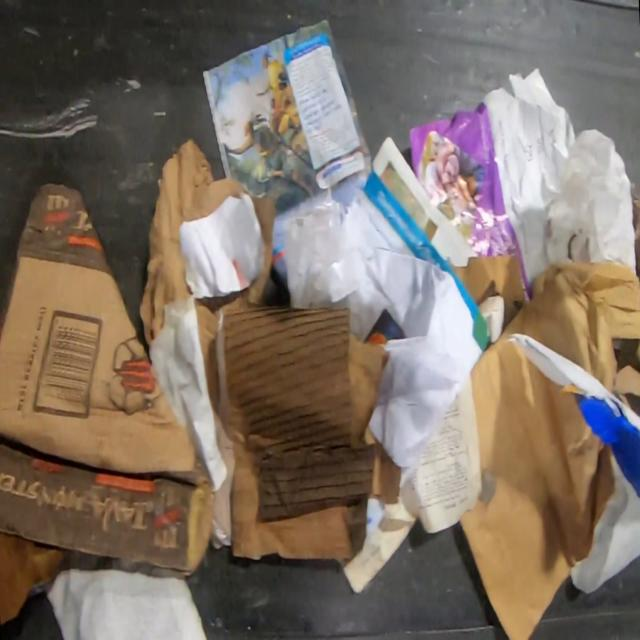cardboard: (0, 184, 213, 579), (456, 334, 616, 640), (211, 305, 400, 560), (137, 139, 274, 412), (500, 259, 640, 393), (0, 529, 78, 627), (450, 252, 528, 333), (613, 338, 640, 417)
soft_plastic: (282, 201, 390, 340)
